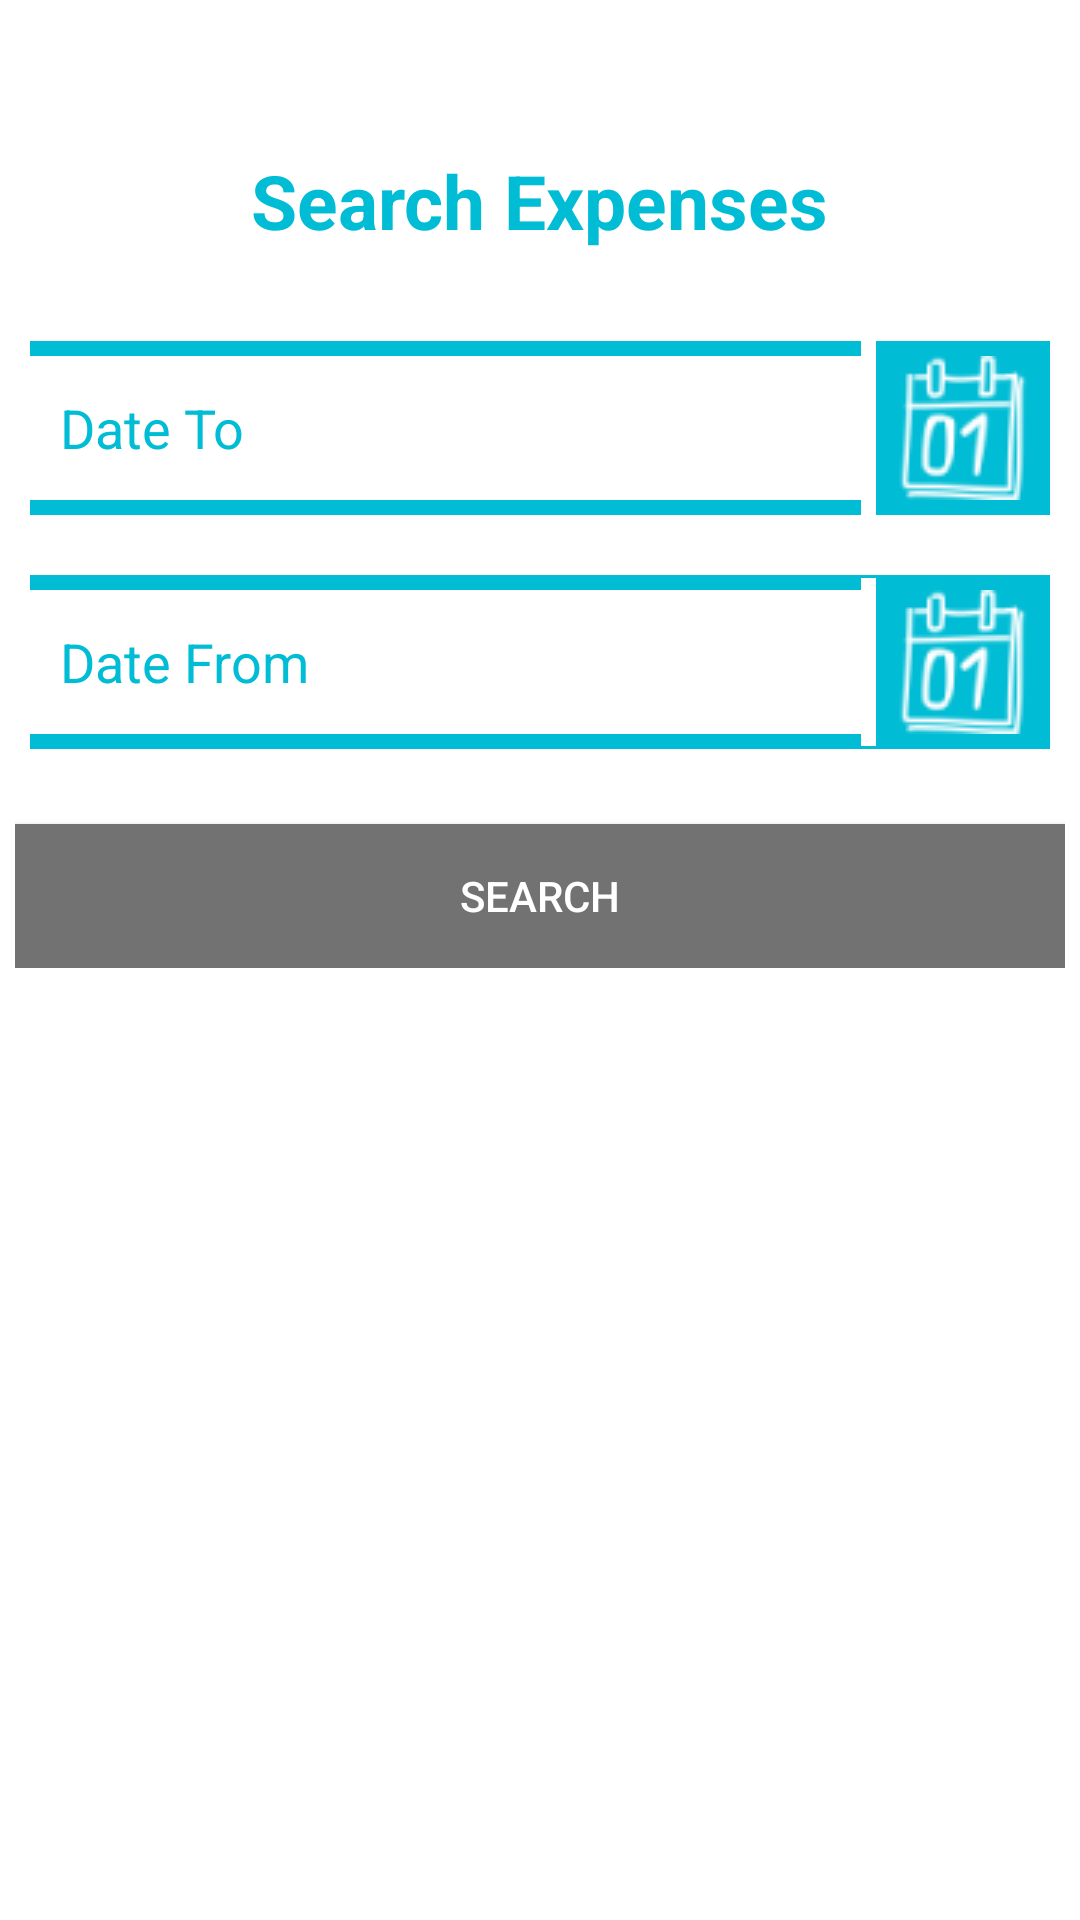

Point at icon controls on the screen. Image size 1080 x 1920, points as [x,y].
Select Date: [963,428], [963,662]
